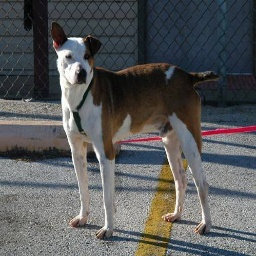dog: (46, 19, 215, 240)
